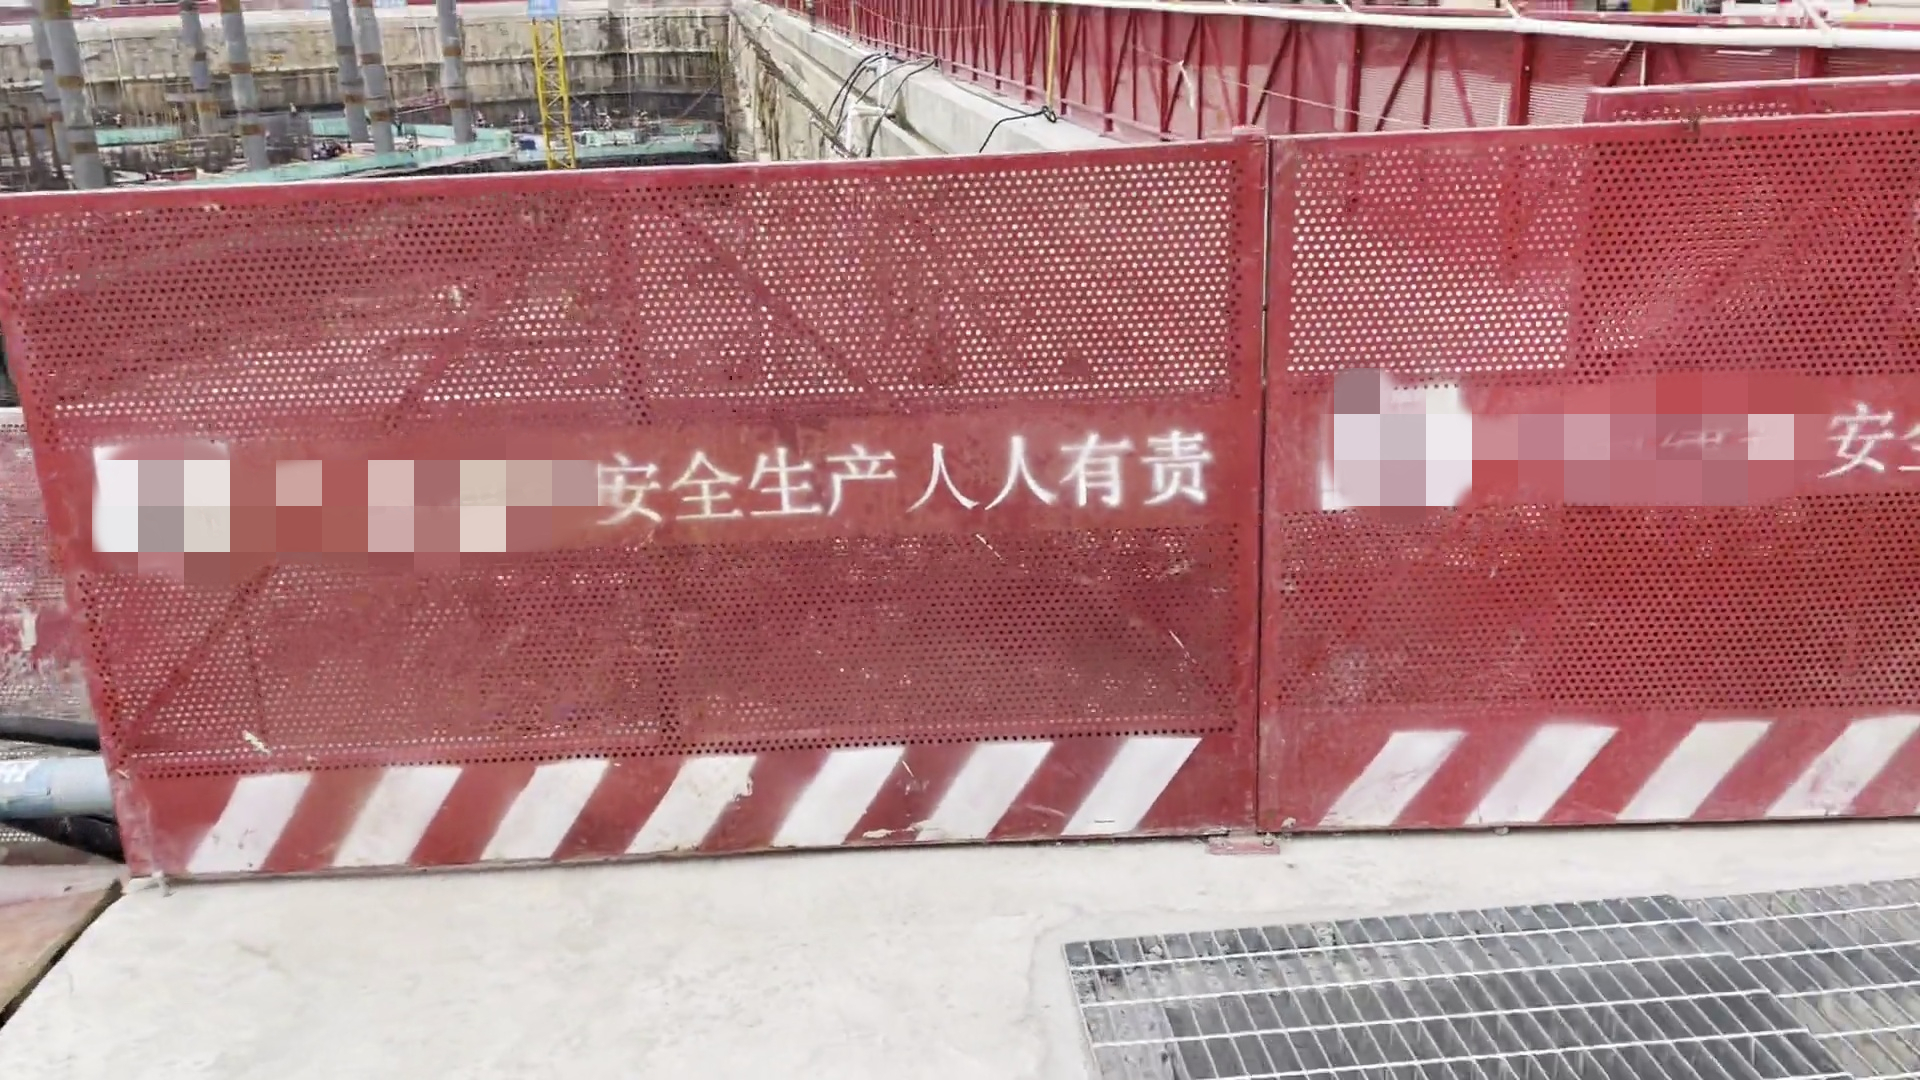board: (3, 869, 127, 1080)
fence: (918, 107, 1920, 861), (1, 132, 930, 907), (906, 4, 1920, 165)
slogan: (510, 1, 580, 32)
